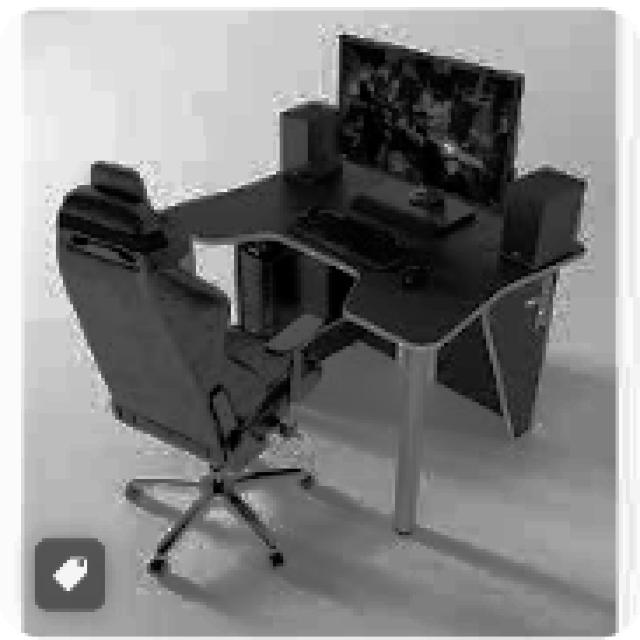book: (56, 161, 325, 573)
table: (157, 154, 584, 535)
